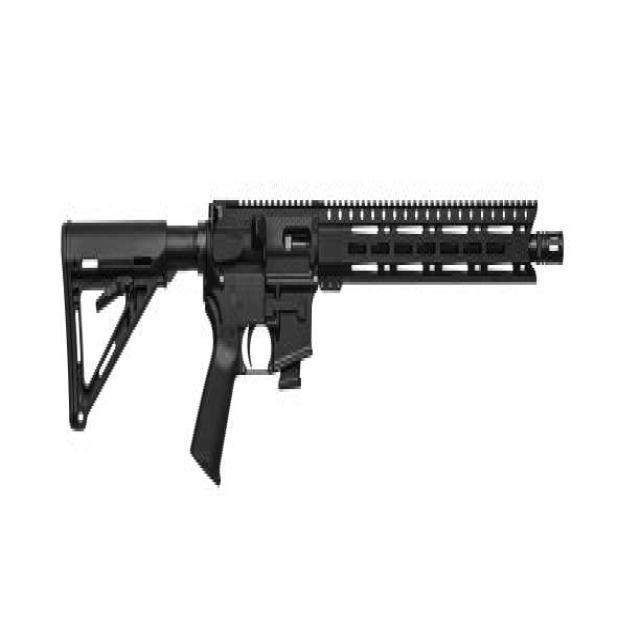rifle: (50, 178, 566, 517)
